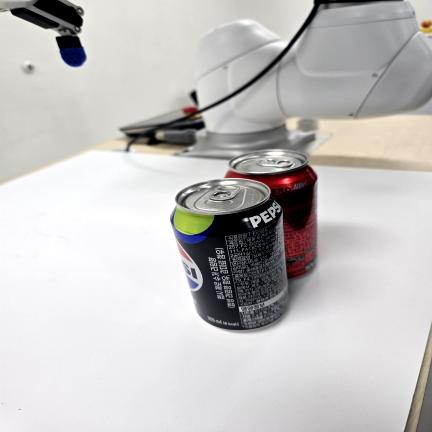can_coke_zero: (227, 151, 318, 278)
can_pepsi_zero: (170, 180, 291, 331)
